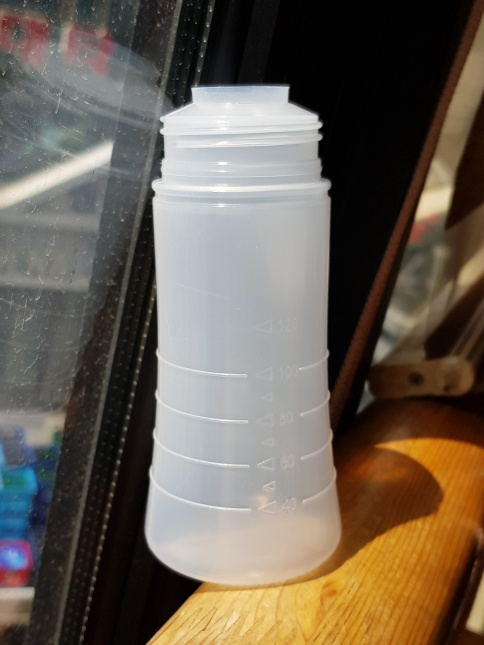Plastic: (139, 76, 345, 591)
